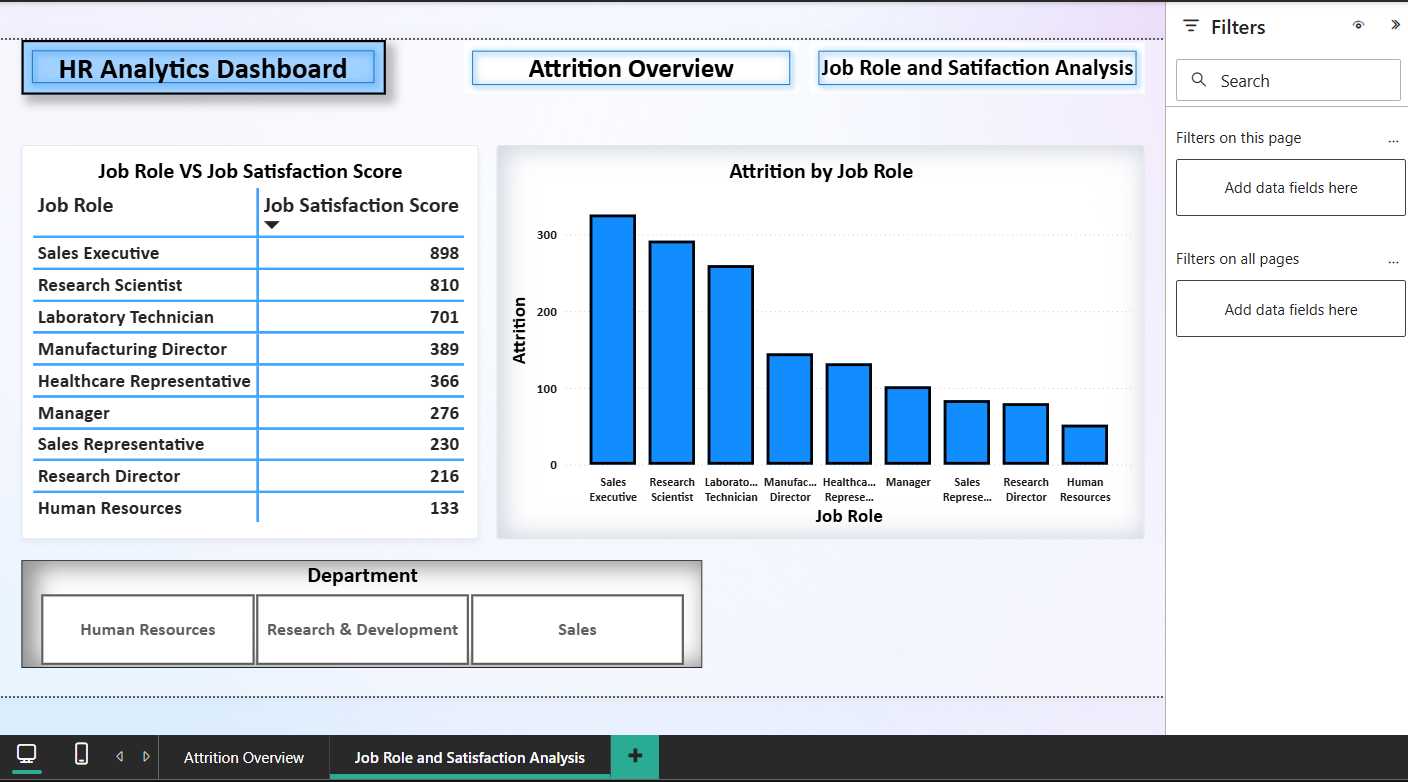

This screenshot's page, from the dashboard's own definition file:
{"tool":"powerbi","page":{"name":"Job Role  and Satisfaction Analysis","canvas":[1280,720],"ordinal":1},"visuals":[{"type":"shape","box":[24.3,0,400,60],"z":0},{"type":"shape","box":[510,2.9,367.1,55.7],"z":1000},{"type":"shape","box":[890,2.9,367.1,55.7],"z":2000},{"type":"pivotTable","title":"Job Role VS Job Satisfaction Score","fields":{"Rows":["HR_Analytics.JobRole"],"Values":["Sum(HR_Analytics.JobSatisfaction)"]},"box":[24.3,115.7,501.4,432.9],"z":3000},{"type":"clusteredColumnChart","fields":{"Y":["CountNonNull(HR_Analytics.Attrition)"],"Category":["HR_Analytics.JobRole"]},"box":[545.7,115.7,711.4,432.9],"z":4000},{"type":"slicer","title":"Department","fields":{"Values":["HR_Analytics.Department"]},"box":[24.3,571.4,747.1,118.6],"z":5000}]}

Visuals, with their boxes on the page's 1280x720 design canvas (x1, y1, x2, y2). These are canvas units, not pixel positions in the 1408x782 screenshot, which may show the page scaled, cropped or inside an application window:
shape: BBox(24, 0, 424, 60)
shape: BBox(510, 3, 877, 59)
shape: BBox(890, 3, 1257, 59)
"Job Role VS Job Satisfaction Score" pivotTable: BBox(24, 116, 526, 549)
clusteredColumnChart - CountNonNull(HR_Analytics.Attrition) x HR_Analytics.JobRole: BBox(546, 116, 1257, 549)
"Department" slicer: BBox(24, 571, 771, 690)
